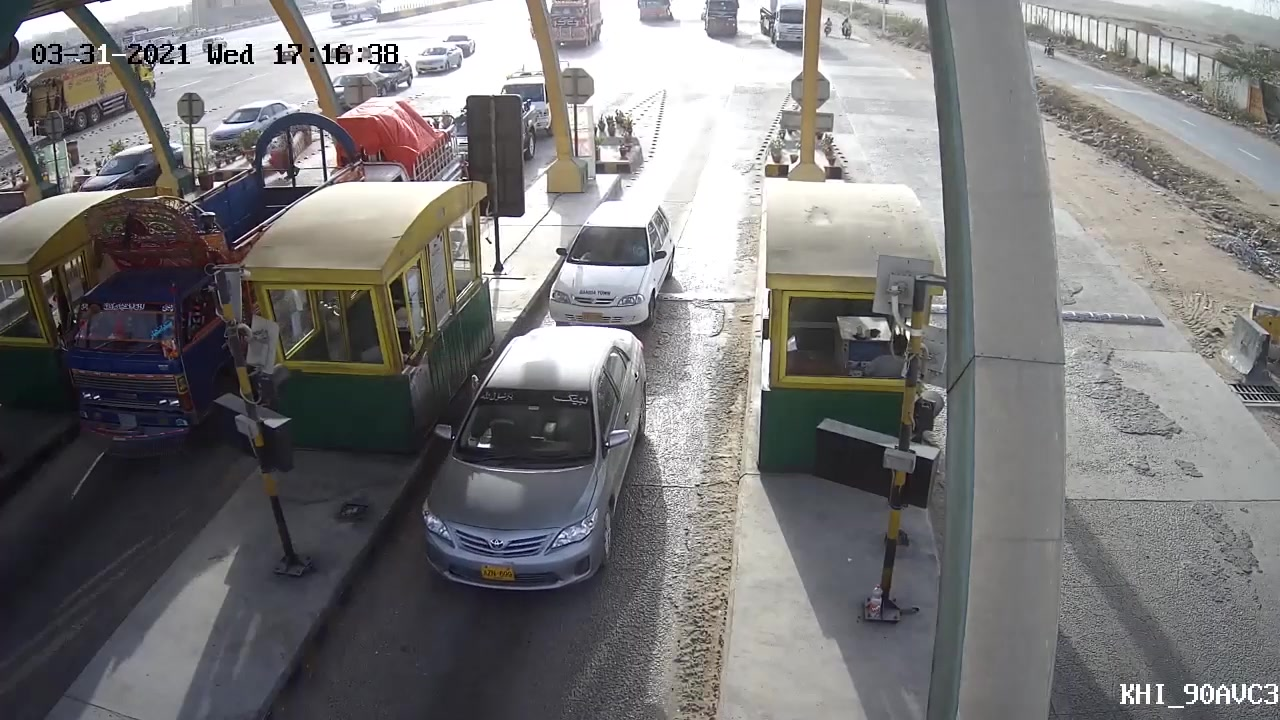F1: (417, 318, 663, 595), (543, 199, 678, 328)
